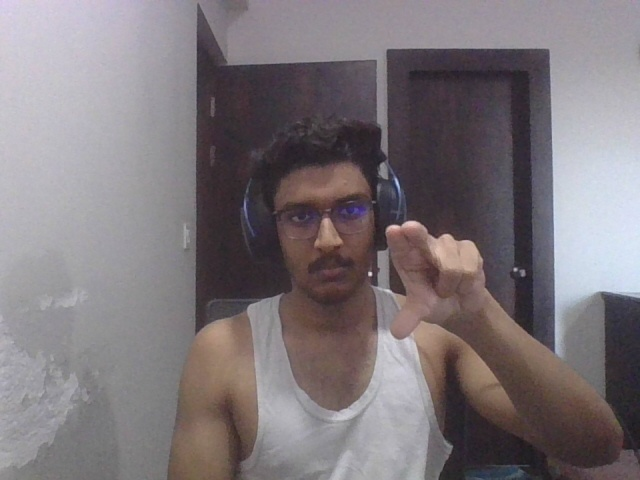No: (368, 215, 498, 350)
